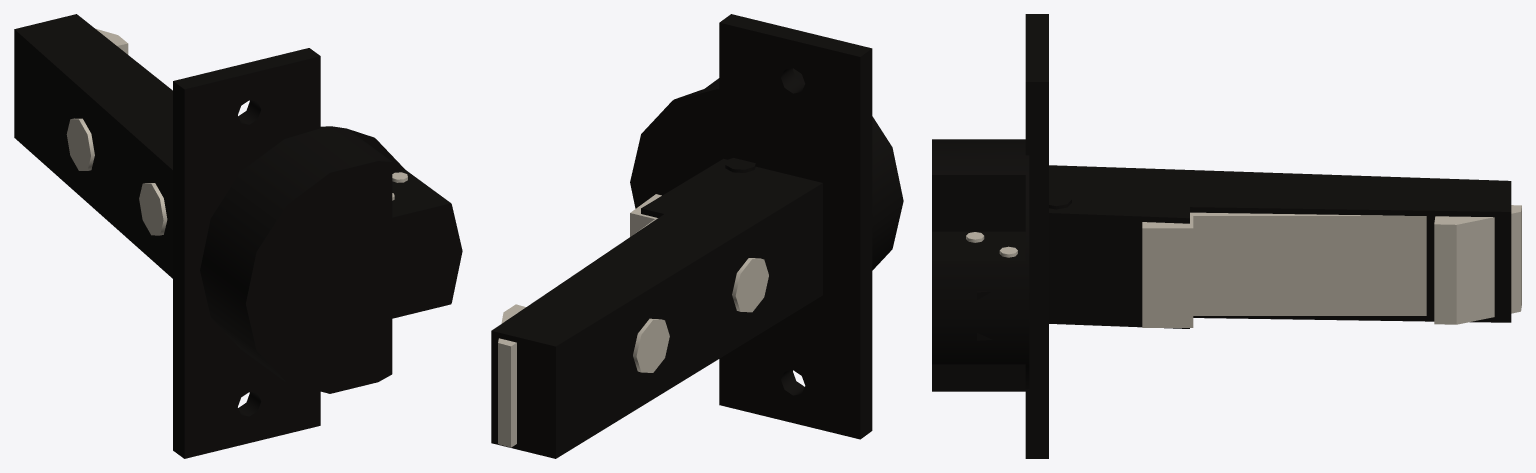
File: body.dae
3 views of the same model, side by side, from view 1: azimuth 30°, elevation 25°; view 2: azimuth 150°, elevation 25°; view 3: azimuth 270°, elevation 25° (orthographic). The views are drawn at different scales.
Visible parts, largest first — view 1: bau0015089612-1, bau0015088251-1; view 2: bau0015089612-1, bau0015088251-1, bau0019416036-1; view 3: bau0019416036-1, bau0015088251-1, bau0015089612-1.
Boxes of the visible parts, x1=… form: bau0015089612-1: x1=173, y1=48, x2=462, y2=458; bau0015088251-1: x1=14, y1=14, x2=172, y2=278; bau0015089612-1: x1=630, y1=14, x2=903, y2=439; bau0015088251-1: x1=491, y1=158, x2=822, y2=458; bau0019416036-1: x1=498, y1=194, x2=661, y2=447; bau0019416036-1: x1=1142, y1=205, x2=1521, y2=327; bau0015088251-1: x1=1049, y1=165, x2=1511, y2=328; bau0015089612-1: x1=932, y1=14, x2=1048, y2=458.
Size of the model in its own units: 37.5 by 57 by 80.78.
